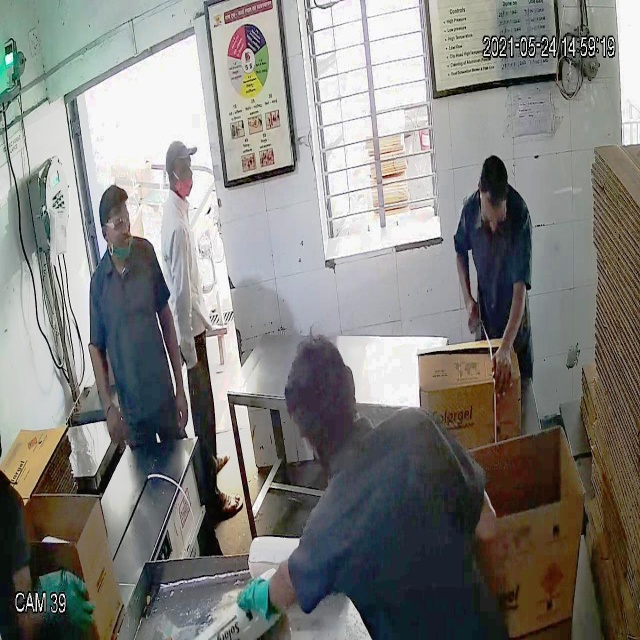Gafas: (96, 207, 134, 233)
